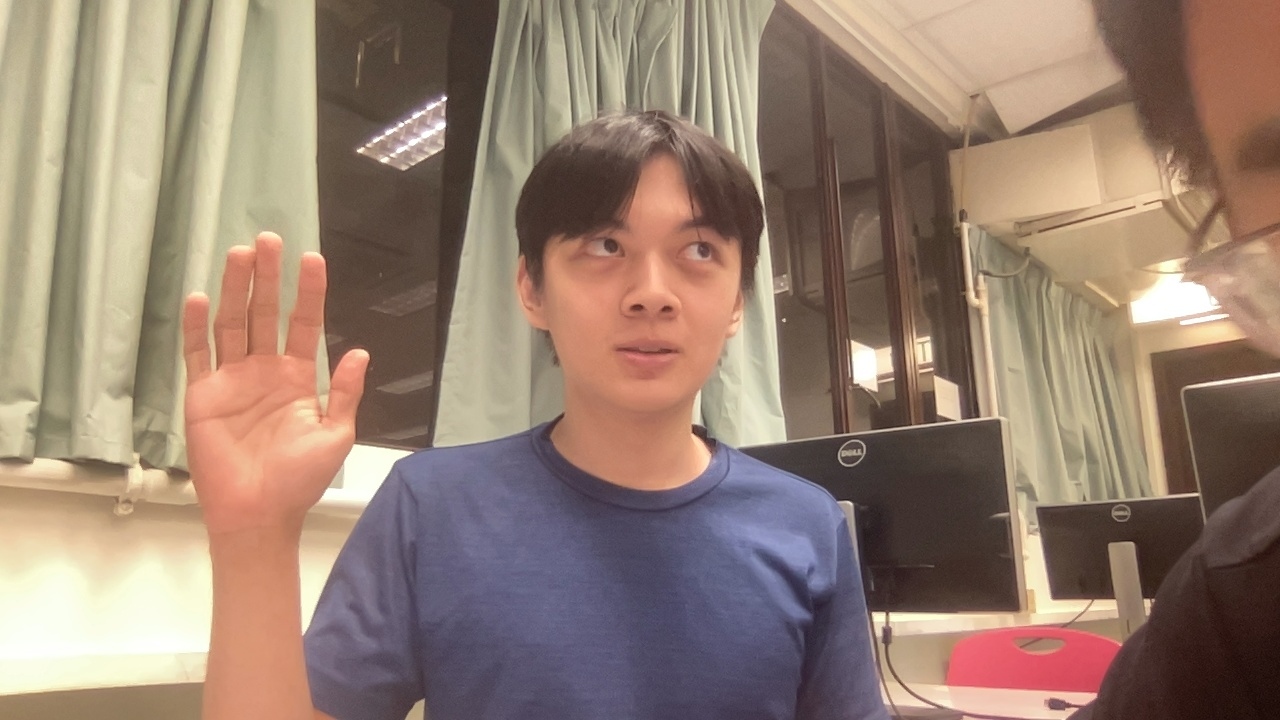hello: (141, 211, 400, 526)
